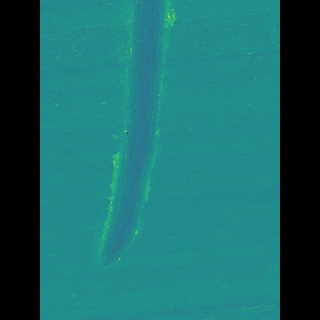Loch: (109, 0, 173, 275)
